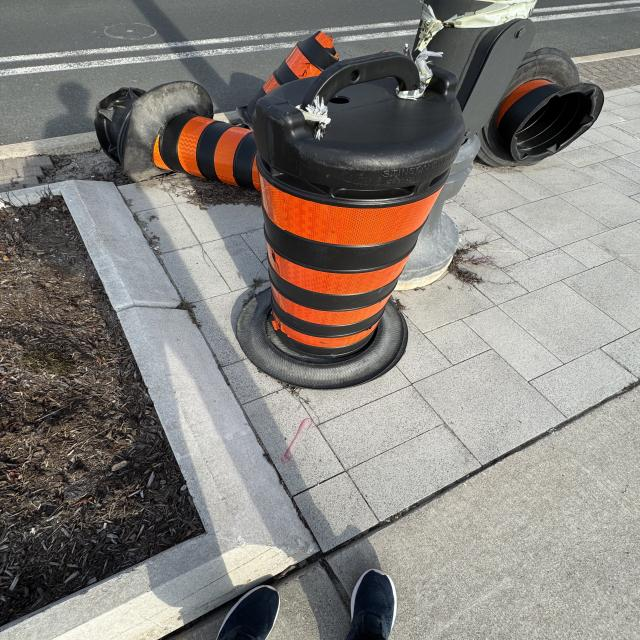Teraffic Barrel: (237, 52, 464, 388), (94, 81, 260, 190), (479, 48, 604, 166), (94, 81, 213, 181), (237, 31, 339, 126), (153, 113, 260, 190)
